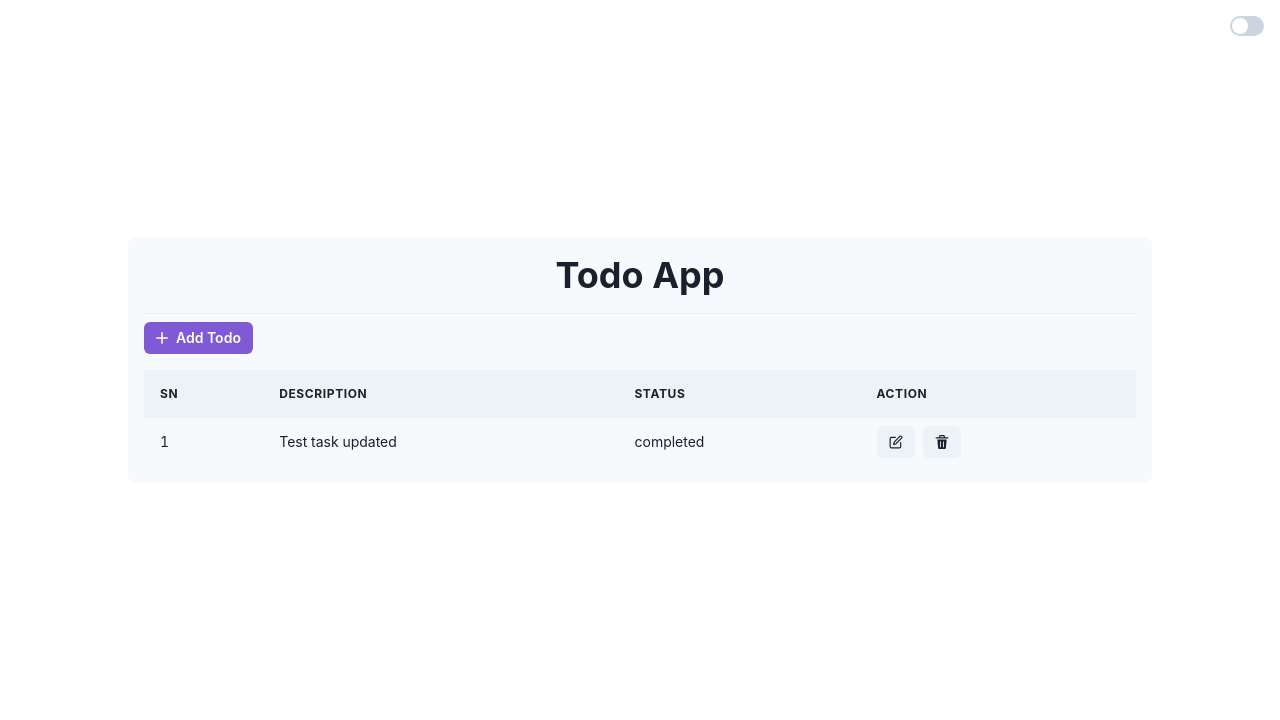
Test: Tests for todo form › Todo form › should delete a task
This screenshot has width=1280, height=720.
Click the button with id "delete-task-button".
click(942, 442)  # box [923, 426, 961, 458]
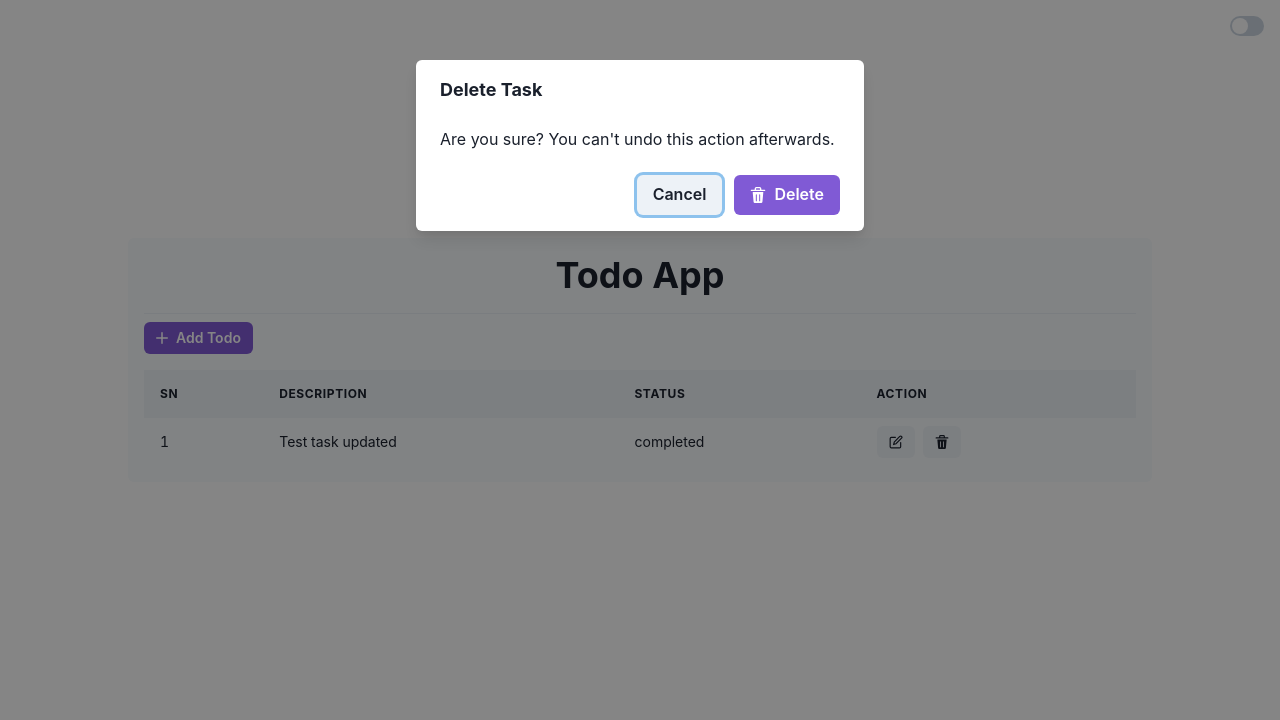
Expected: the dialog with test id "delete-warning-dialog" is shown, [416, 60, 864, 231]
Click the button with id "confirm-delete-button".
click(787, 195)  # box [734, 175, 840, 215]
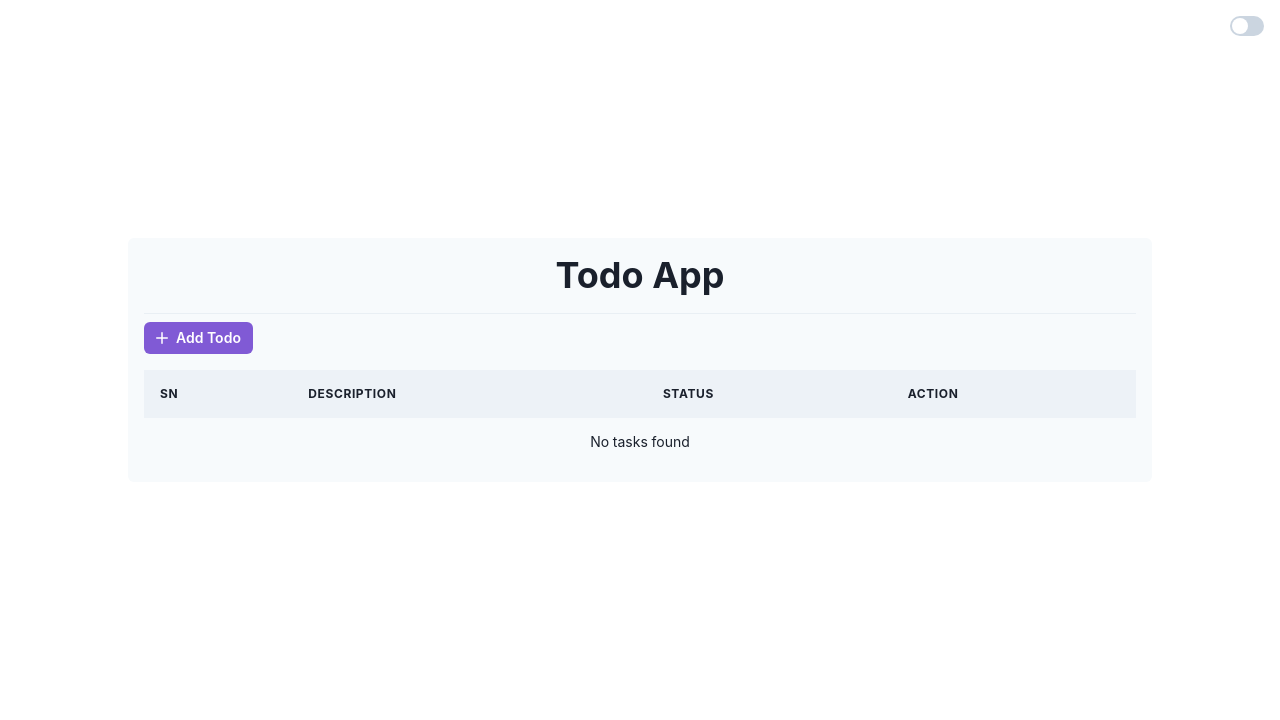
Expected: the cell "No tasks found" is shown, [144, 418, 1136, 466]
